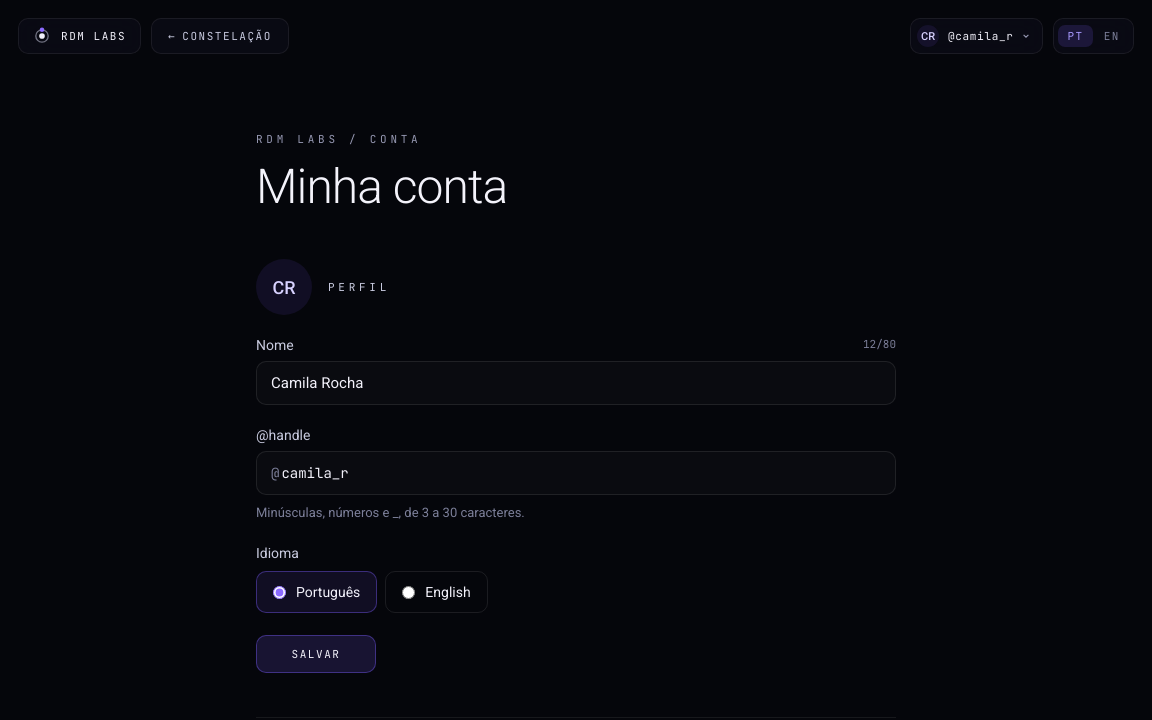
Test: Minha conta › a API recusar o @handle mostra o erro do campo
Click the button "SALVAR" at (316, 654), box 256,635 -> 376,673
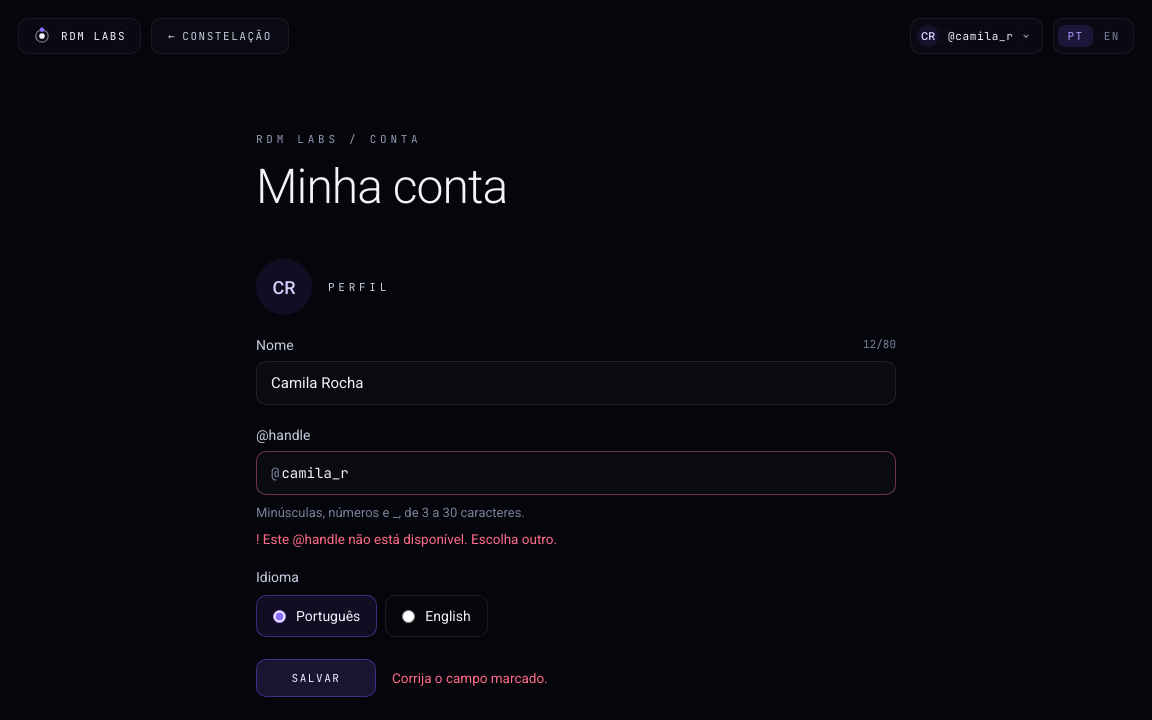
Expected: the text "! Este @handle não está disponível. Escolha outro." is shown, 256,531 -> 557,547
